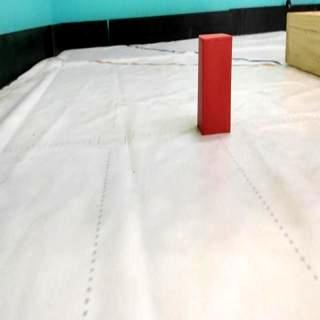redbox: (198, 31, 232, 135)
